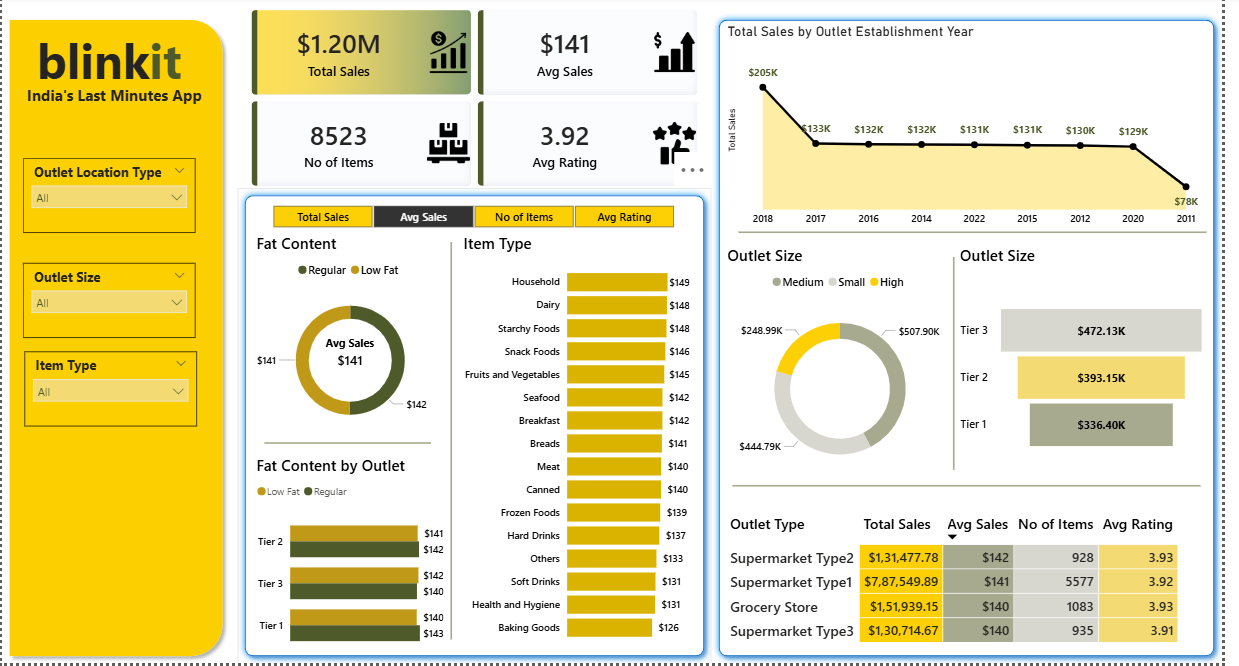

The dashboard page shown, as its layout file describes it:
{"tool":"powerbi","page":{"name":"Page 1","canvas":[1500,820],"ordinal":0},"visuals":[{"type":"shape","box":[0,20.3,280.3,800.3],"z":0},{"type":"textbox","box":[7.4,33.2,249,92.2],"z":1000},{"type":"textbox","box":[25.8,103.3,230.5,44.3],"z":2000},{"type":"cardVisual","fields":{"Data":["Blinkit Grocery Data.Total Sales","Blinkit Grocery Data.AvgSales","Blinkit Grocery Data.No of Items","Blinkit Grocery Data.Avg Rating"]},"box":[289.5,0,582.7,250.8],"z":3000},{"type":"shape","box":[289.5,236,582.7,584.6],"z":4000},{"type":"slicer","fields":{"Values":["Matrix.Matrix"]},"box":[308,250.8,542.2,40.6],"z":5000},{"type":"donutChart","title":"Fat Content","fields":{"Y":["Blinkit Grocery Data.Avg Sales"],"Category":["Blinkit Grocery Data.Item Fat Content"]},"box":[308,291.4,239.7,258.2],"z":6000},{"type":"cardVisual","fields":{"Data":["Blinkit Grocery Data.Avg Sales"]},"box":[365.1,396.5,125.4,81.1],"z":7000},{"type":"clusteredBarChart","title":"Fat Content by Outlet","fields":{"Y":["Blinkit Grocery Data.Avg Sales"],"Category":["Blinkit Grocery Data.Outlet Location Type"],"Series":["Blinkit Grocery Data.Item Fat Content"]},"box":[308,564.3,239.7,256.3],"z":8000},{"type":"clusteredBarChart","title":"Item Type","fields":{"Y":["Blinkit Grocery Data.Avg Sales"],"Category":["Blinkit Grocery Data.Item Type"]},"box":[562.5,291.4,287.7,512.7],"z":9000},{"type":"shape","box":[322.7,516.4,204.7,66.4],"z":10000},{"type":"shape","box":[531.1,302.4,42.4,488.7],"z":11000},{"type":"shape","box":[872.3,20.3,627,800.3],"z":12000},{"type":"lineChart","fields":{"Category":["Blinkit Grocery Data.Outlet Establishment Year"],"Y":["Blinkit Grocery Data.Total Sales"]},"box":[887,33.2,599.3,258.2],"z":13000},{"type":"donutChart","title":"Outlet Size","fields":{"Category":["Blinkit Grocery Data.Outlet Size"],"Y":["Blinkit Grocery Data.Total Sales"]},"box":[887,306.1,285.8,298.7],"z":14000},{"type":"funnel","title":"Outlet Size","fields":{"Y":["Blinkit Grocery Data.Total Sales"],"Category":["Blinkit Grocery Data.Outlet Location Type"]},"box":[1172.9,306.1,311.7,298.7],"z":15000},{"type":"pivotTable","fields":{"Rows":["Blinkit Grocery Data.Outlet Type"],"Values":["Blinkit Grocery Data.Total Sales","Blinkit Grocery Data.Avg Sales","Blinkit Grocery Data.No of Items","Blinkit Grocery Data.Avg Rating"]},"box":[885.2,628.8,601.2,175.2],"z":16000},{"type":"shape","box":[905.5,263.7,575.4,53.5],"z":17000},{"type":"shape","box":[1147,320.9,46.1,261.9],"z":18000},{"type":"shape","box":[898.1,575.4,575.4,53.5],"z":19000},{"type":"slicer","fields":{"Values":["Blinkit Grocery Data.Outlet Location Type"]},"box":[25.8,199.2,212.1,92.2],"z":20000},{"type":"slicer","fields":{"Values":["Blinkit Grocery Data.Outlet Size"]},"box":[25.8,328.3,212.1,92.2],"z":21000},{"type":"slicer","fields":{"Values":["Blinkit Grocery Data.Item Type"]},"box":[27.7,437.1,212.1,92.2],"z":22000}]}

Visuals, with their boxes in screenshot pixels (x1, y1, x2, y2), scaled from the page's 1500x820 canvas onto the 1239x666 screenshot:
shape: BBox(0, 16, 232, 665)
textbox: BBox(6, 27, 212, 102)
textbox: BBox(21, 84, 212, 120)
cardVisual - Blinkit Grocery Data.Total Sales x Blinkit Grocery Data.AvgSales: BBox(239, 0, 720, 204)
shape: BBox(239, 192, 720, 665)
slicer - Matrix.Matrix: BBox(254, 204, 702, 237)
"Fat Content" donutChart: BBox(254, 237, 452, 446)
cardVisual - Blinkit Grocery Data.Avg Sales: BBox(302, 322, 405, 388)
"Fat Content by Outlet" clusteredBarChart: BBox(254, 458, 452, 665)
"Item Type" clusteredBarChart: BBox(465, 237, 702, 653)
shape: BBox(267, 419, 436, 473)
shape: BBox(439, 246, 474, 643)
shape: BBox(721, 16, 1238, 665)
lineChart - Blinkit Grocery Data.Outlet Establishment Year x Blinkit Grocery Data.Total Sales: BBox(733, 27, 1228, 237)
"Outlet Size" donutChart: BBox(733, 249, 969, 491)
"Outlet Size" funnel: BBox(969, 249, 1226, 491)
pivotTable - Blinkit Grocery Data.Outlet Type x Blinkit Grocery Data.Total Sales: BBox(731, 511, 1228, 653)
shape: BBox(748, 214, 1223, 258)
shape: BBox(947, 261, 986, 473)
shape: BBox(742, 467, 1217, 511)
slicer - Blinkit Grocery Data.Outlet Location Type: BBox(21, 162, 197, 237)
slicer - Blinkit Grocery Data.Outlet Size: BBox(21, 267, 197, 342)
slicer - Blinkit Grocery Data.Item Type: BBox(23, 355, 198, 430)
